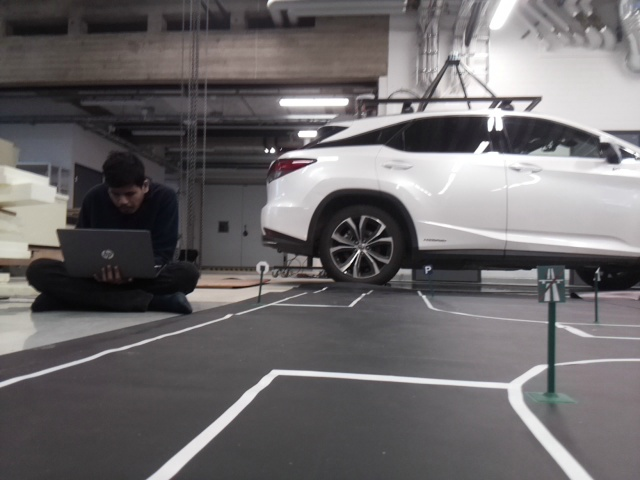HighwayExit: (538, 266, 563, 302)
